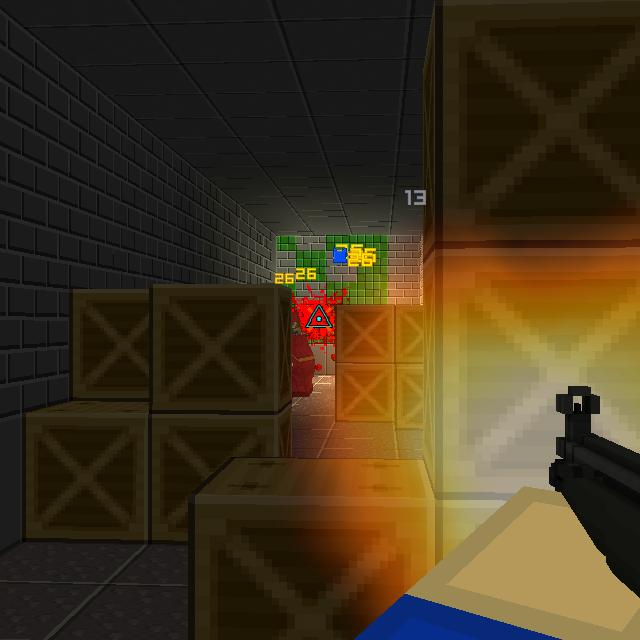enemy: (291, 310, 316, 398)
